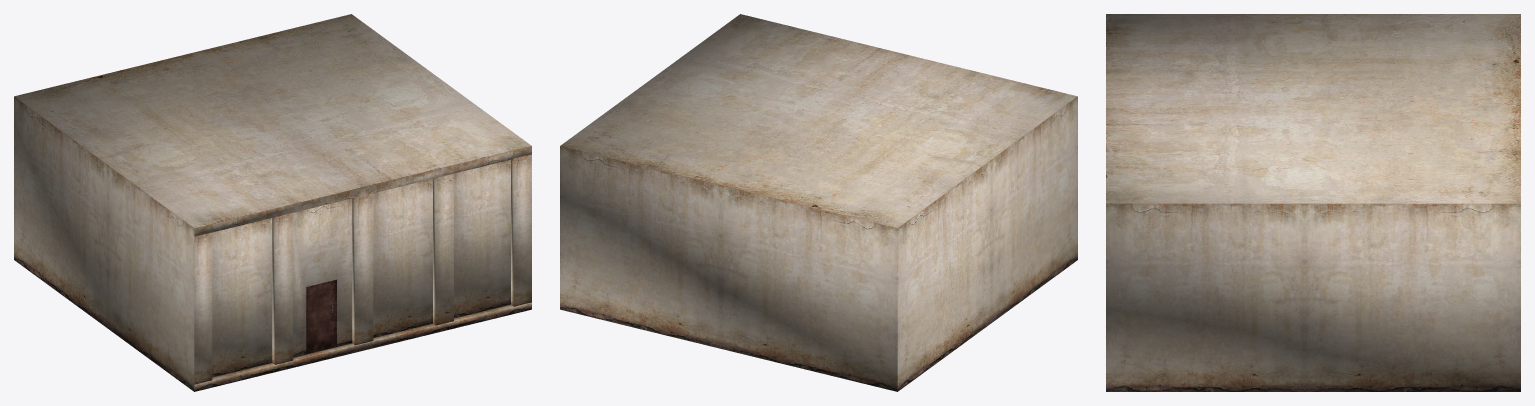
Rendered from BuildingE_Seperated.fbx.
3 views of the same model, side by side, from view 1: azimuth 30°, elevation 25°; view 2: azimuth 150°, elevation 25°; view 3: azimuth 270°, elevation 25° (orthographic). The views are drawn at different scales.
Parts seen in each view (by area): view 1: BuildingE_Wall, BuildingE_Roof, BuildingE_Door; view 2: BuildingE_Wall, BuildingE_Roof; view 3: BuildingE_Roof, BuildingE_Wall.
Boxes of the visible parts, box(x1,y1,x2,y2) form: BuildingE_Wall: box(14, 96, 531, 391); BuildingE_Roof: box(14, 14, 531, 227); BuildingE_Door: box(306, 279, 336, 354); BuildingE_Wall: box(560, 96, 1077, 391); BuildingE_Roof: box(560, 14, 1077, 227); BuildingE_Roof: box(1106, 14, 1520, 203); BuildingE_Wall: box(1106, 203, 1520, 391).
Size of the model in its own units: 1154 by 535 by 1067.
